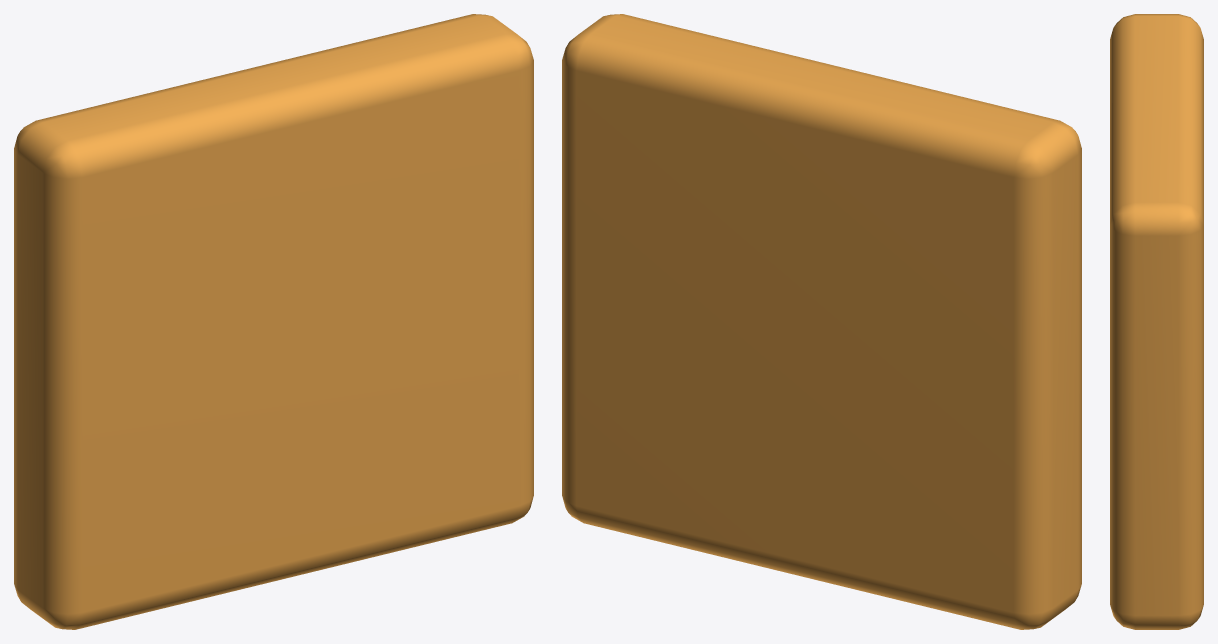
The model's file is SM_EG_Checkout_lane_sign_3345811d3e.fbx.
The picture shows the model from 3 angles, left to right: view 1: azimuth 30°, elevation 25°; view 2: azimuth 150°, elevation 25°; view 3: azimuth 270°, elevation 25°; orthographic projection. The views are drawn at different scales.
Visible parts, largest first — view 1: SM_EG_Checkout_lane_sign_3345811d3e; view 2: SM_EG_Checkout_lane_sign_3345811d3e; view 3: SM_EG_Checkout_lane_sign_3345811d3e.
Boxes of the visible parts, left/top/right/bottom form: SM_EG_Checkout_lane_sign_3345811d3e: left=14, top=14, right=533, bottom=629; SM_EG_Checkout_lane_sign_3345811d3e: left=562, top=14, right=1081, bottom=629; SM_EG_Checkout_lane_sign_3345811d3e: left=1110, top=14, right=1203, bottom=629.
Size of what is drawn, in the model's own units: 68 by 13 by 65.
